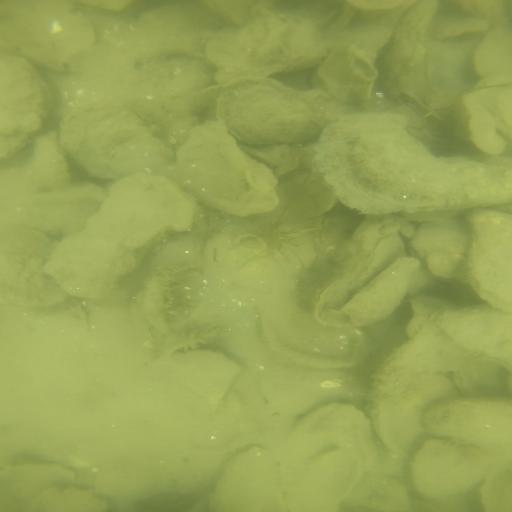Oyster-Closed: (313, 114, 511, 215), (48, 172, 193, 296), (369, 327, 456, 453), (172, 120, 284, 211), (319, 222, 409, 328), (256, 295, 368, 372), (59, 107, 168, 179), (208, 18, 324, 80), (2, 1, 93, 73), (221, 82, 328, 143), (429, 304, 512, 372), (207, 446, 290, 511), (153, 351, 242, 406), (343, 261, 416, 328), (411, 438, 487, 498), (413, 218, 473, 293), (424, 397, 508, 448), (470, 211, 510, 313), (7, 56, 45, 156), (453, 95, 509, 156), (346, 478, 411, 512), (33, 487, 105, 512), (477, 28, 509, 82), (456, 1, 512, 18)
Oyster-Open: (337, 48, 387, 108)
